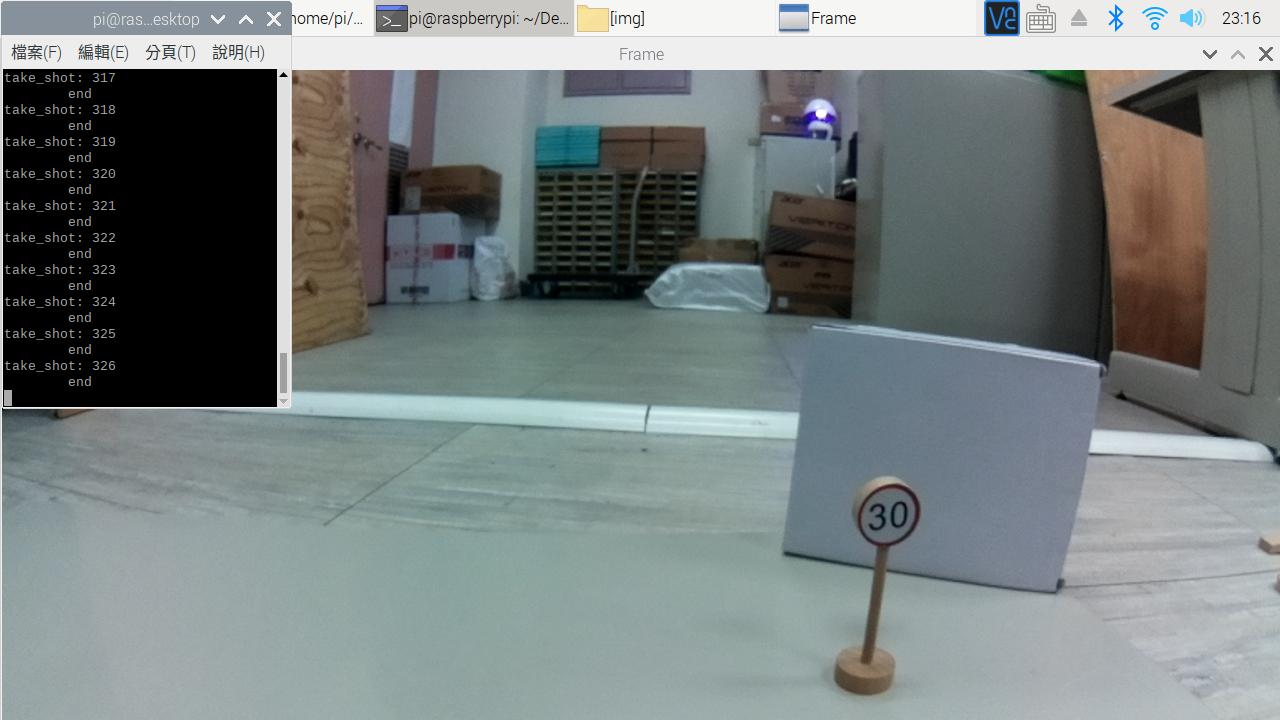Speed30: (838, 474, 940, 561)
